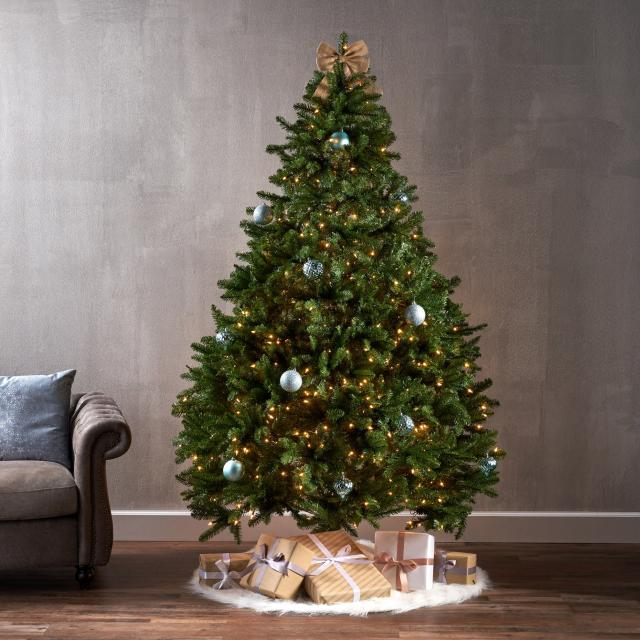Christmas-tree: (166, 31, 507, 530)
